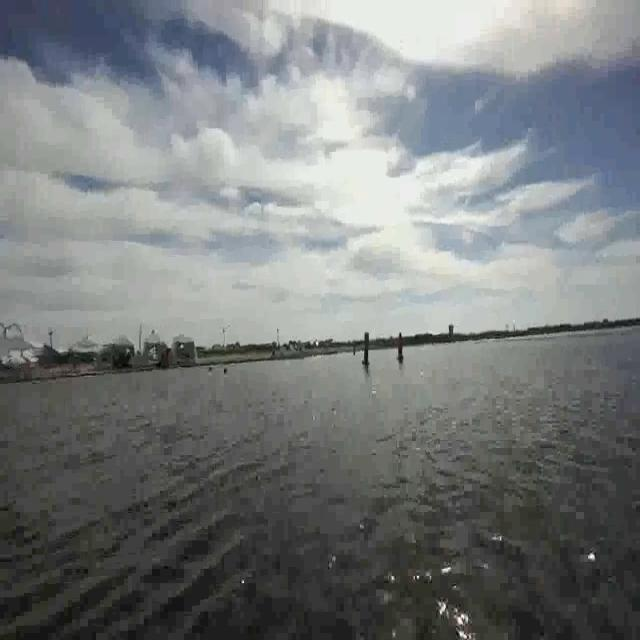green-column-buoy: (360, 332, 370, 366)
red-column-buoy: (394, 333, 404, 363)
